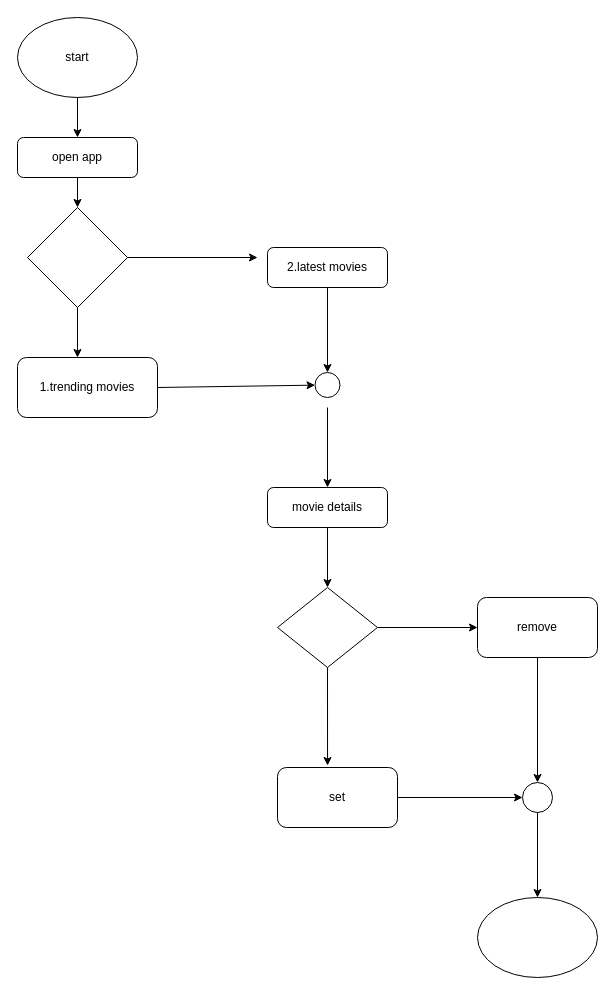
The diagram is 615 pixels wide and 995 high, and some of its shapes have lost their labels. The centre of each missing label's shape, as x and y in pixels:
"1v.view trending movies 2.view latest movies" belongs at (x=77, y=257).
"end" belongs at (x=537, y=937).
"reminder" belongs at (x=327, y=627).
